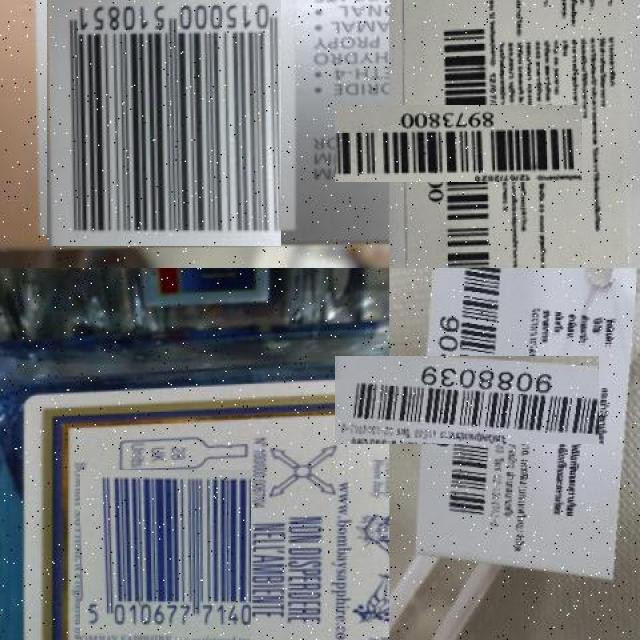Barcode: (40, 0, 286, 240), (378, 312, 555, 489), (80, 469, 251, 640), (377, 63, 540, 225)
